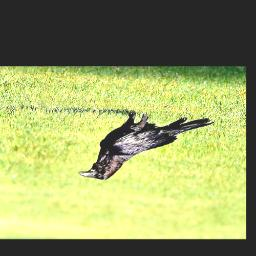Crow: (76, 109, 215, 182)
